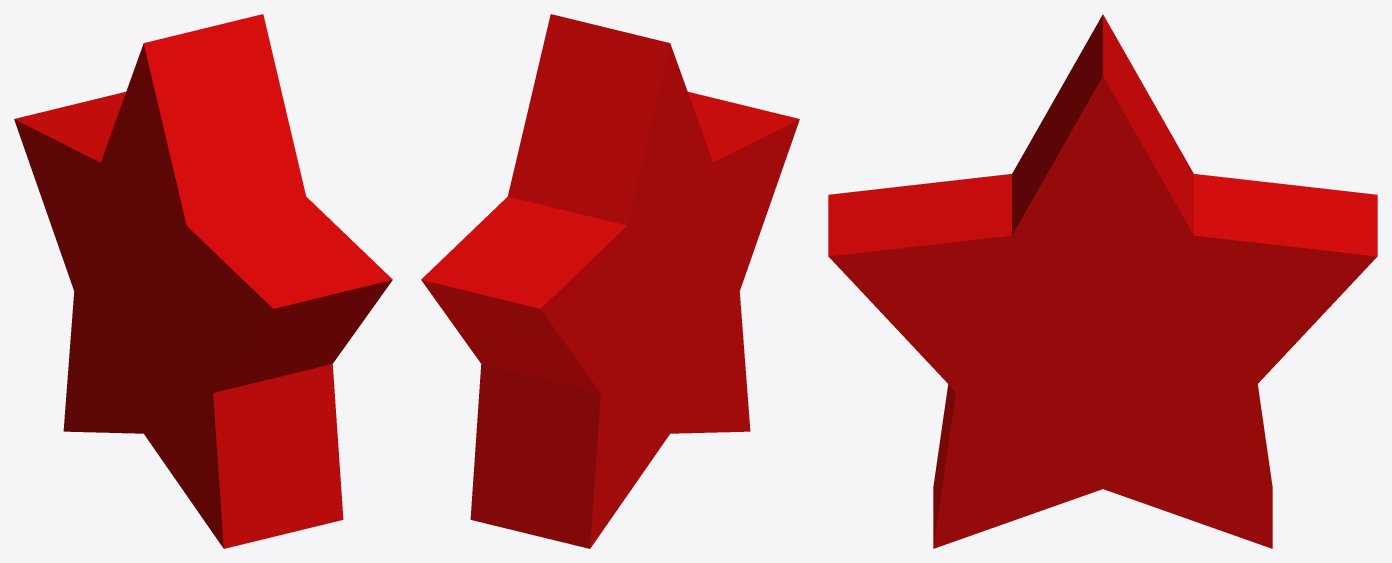
Rendered from star_low.fbx.
3 views of the same model, side by side, from view 1: azimuth 30°, elevation 25°; view 2: azimuth 150°, elevation 25°; view 3: azimuth 270°, elevation 25° (orthographic). The views are drawn at different scales.
Parts seen in each view (by area): view 1: star_low; view 2: star_low; view 3: star_low.
Boxes of the visible parts, box(x1,y1,x2,y2) form: star_low: box(14, 14, 392, 548); star_low: box(421, 14, 799, 548); star_low: box(828, 14, 1377, 548).
Size of the model in its own units: 8.87 by 31.68 by 33.31.
